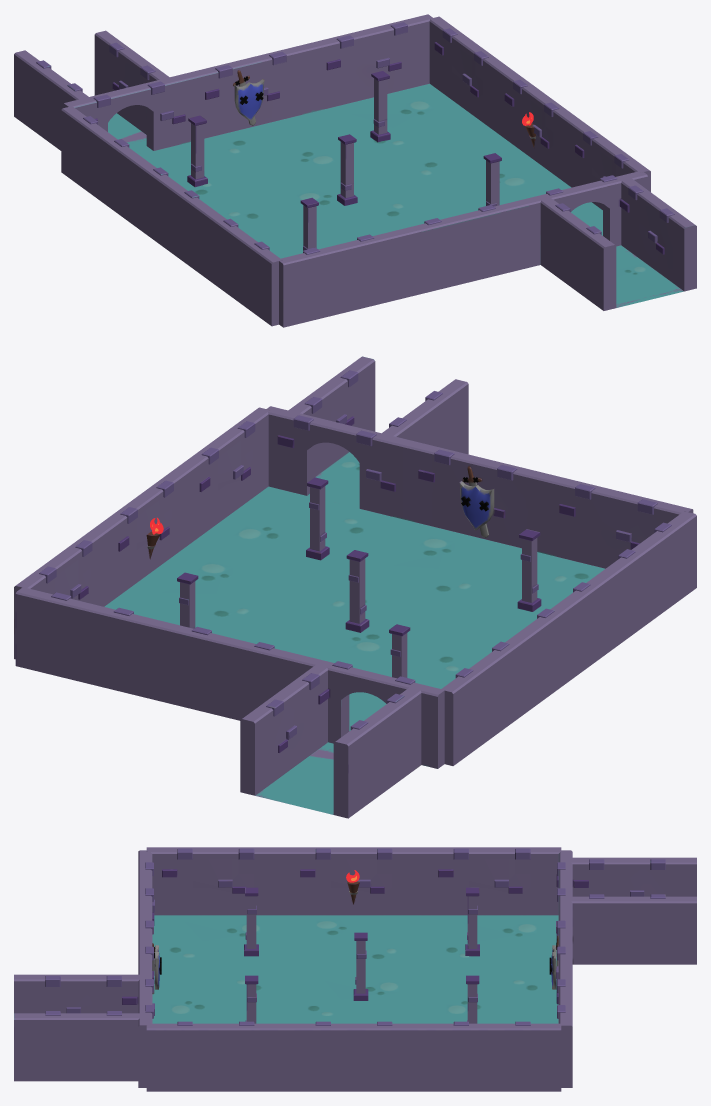
The model's file is RoomPillarBake.glb.
3 views of the same model, one above another, from view 1: azimuth 30°, elevation 25°; view 2: azimuth 150°, elevation 25°; view 3: azimuth 270°, elevation 25° (orthographic). The views are drawn at different scales.
Visible parts, largest first — view 1: Bake; view 2: Bake; view 3: Bake.
Part boxes in pixels (box(x1,y1,x2,y2)): Bake: box(14, 14, 696, 327); Bake: box(14, 356, 696, 818); Bake: box(14, 847, 696, 1091).
Bounding box in the file's own units: 31.21 × 5.1 × 49.43.
Materials: 3 (1 with a texture image).
